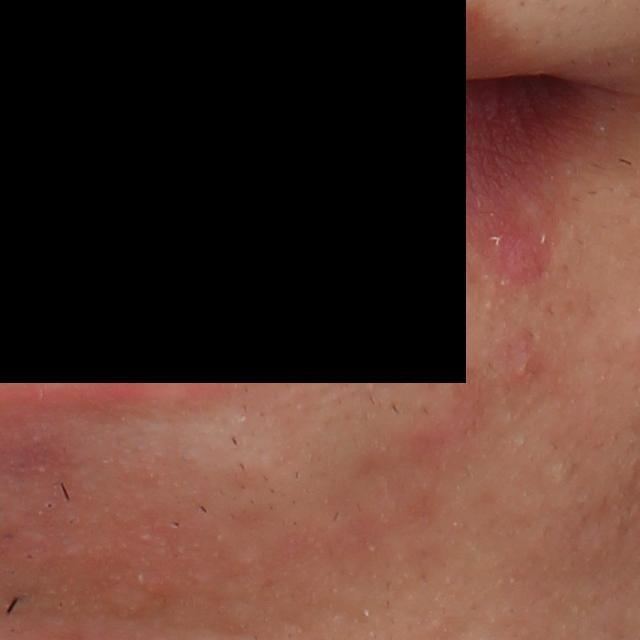papule: (494, 217, 550, 289), (512, 335, 540, 379)
